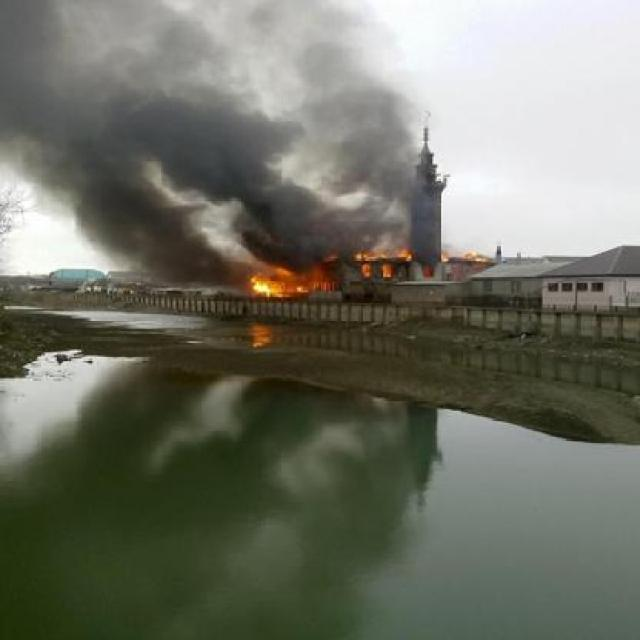Fire: (256, 240, 470, 308)
Smoke: (20, 0, 408, 229)
